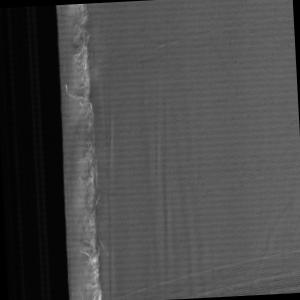Damage: (48, 3, 111, 300)
Wrinkle: (134, 84, 219, 300)
